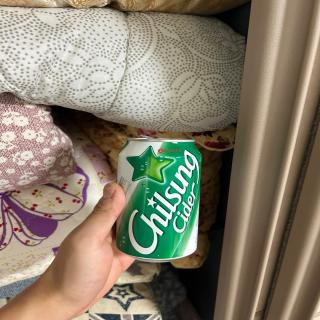chilsung: (113, 134, 202, 263)
